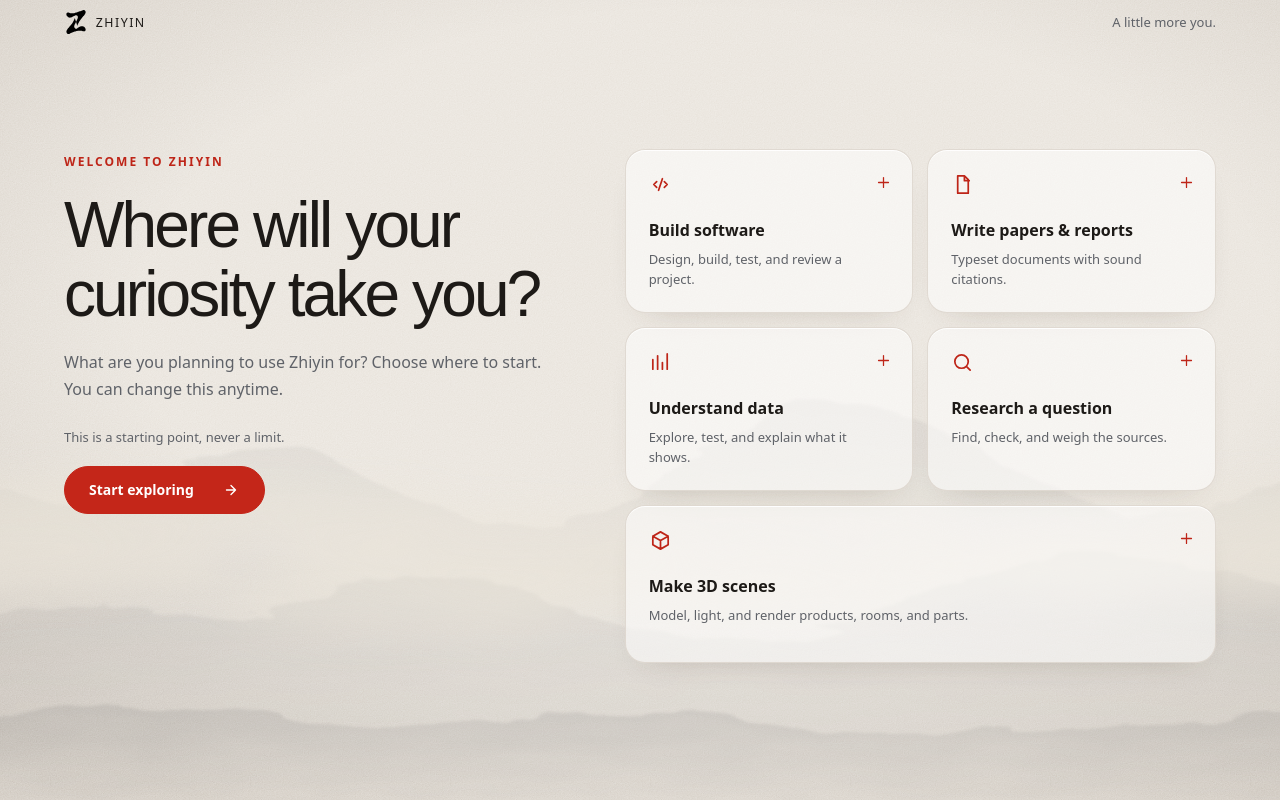
Onboarding › keeps choices available after a failed save
Click the button "Start exploring": [164, 490] box [64, 466, 265, 514]
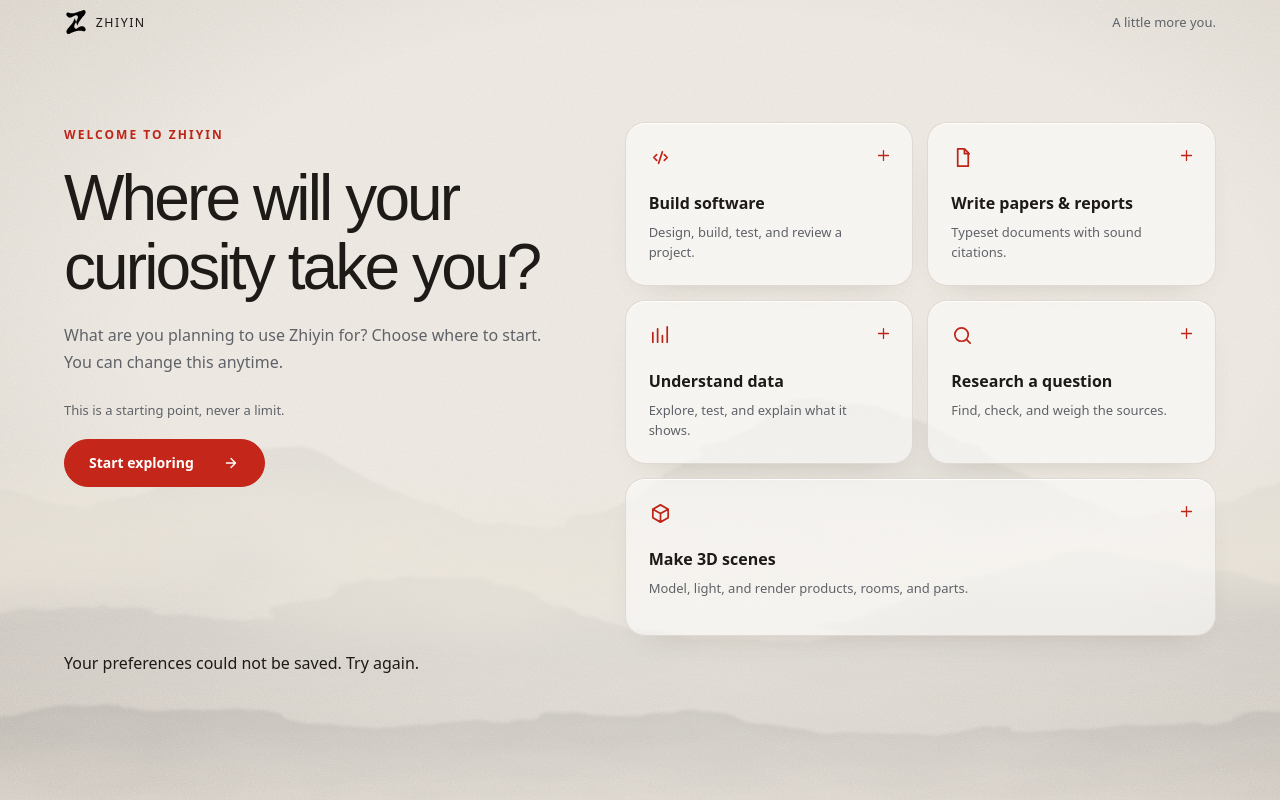
Check: the button "Start exploring" is enabled, box [64, 439, 265, 487]
Check: the message shows "could not be saved", box [64, 652, 419, 674]
